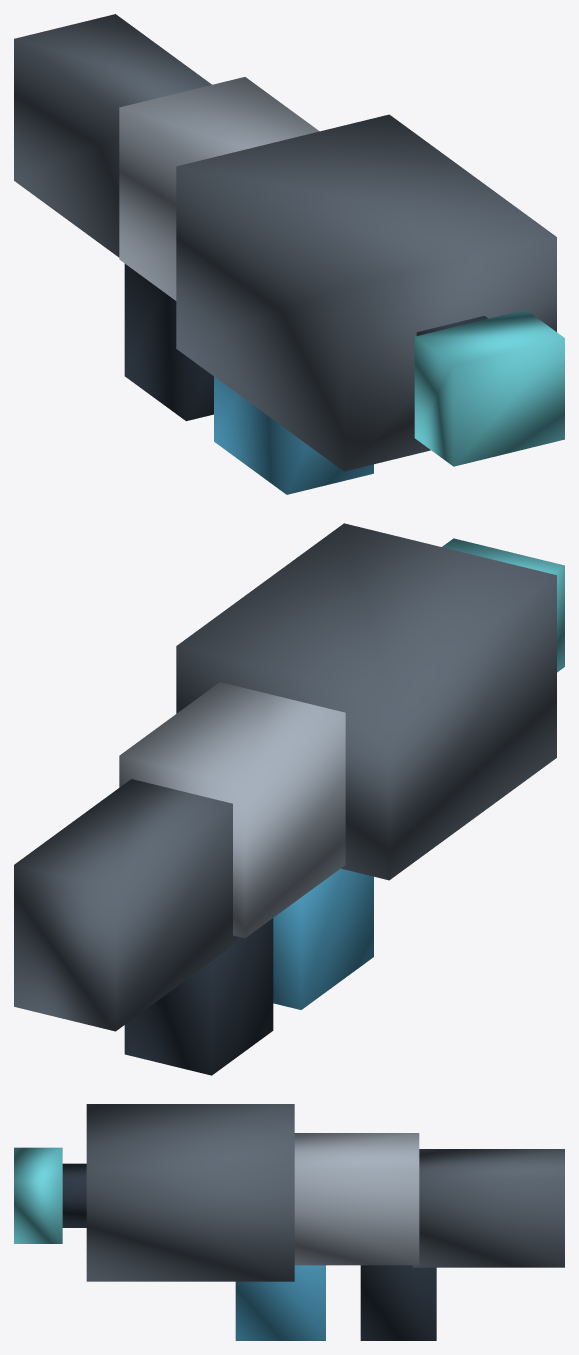
The model's file is ember_scepter.glb.
3 renders of one model, top to bottom at view 1: azimuth 30°, elevation 25°; view 2: azimuth 150°, elevation 25°; view 3: azimuth 270°, elevation 25°, orthographic. The views are drawn at different scales.
Parts seen in each view (by area): view 1: Hardware; view 2: Hardware; view 3: Hardware.
Part boxes in pixels (x1,y1,x2,y2): Hardware: (14,14,564,494); Hardware: (14,523,564,1075); Hardware: (14,1104,564,1340).
Size of the model in its own units: 0.22 by 0.305 by 0.795.
